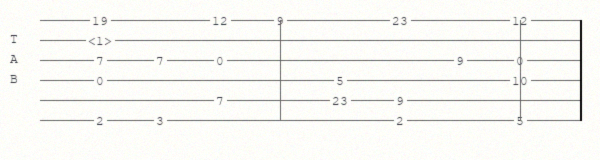0: (96, 74, 108, 86), (216, 54, 228, 66), (516, 54, 528, 66)
10: (512, 74, 532, 86)
12: (212, 14, 232, 26), (512, 14, 532, 26)
19: (92, 14, 112, 26)
2: (96, 114, 108, 126), (396, 114, 408, 126)
23: (332, 94, 352, 106), (392, 14, 412, 26)
3: (156, 114, 168, 126)
5: (336, 74, 348, 86), (516, 114, 528, 126)
7: (96, 54, 108, 66), (156, 54, 168, 66), (216, 94, 228, 106)
9: (276, 14, 288, 26), (396, 94, 408, 106), (456, 54, 468, 66)
harmonic: (88, 34, 116, 47)
